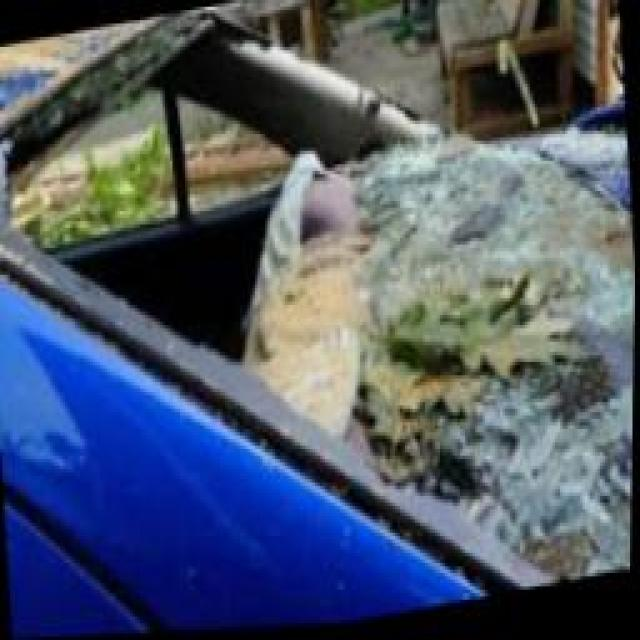replaceable: (20, 44, 632, 548)
